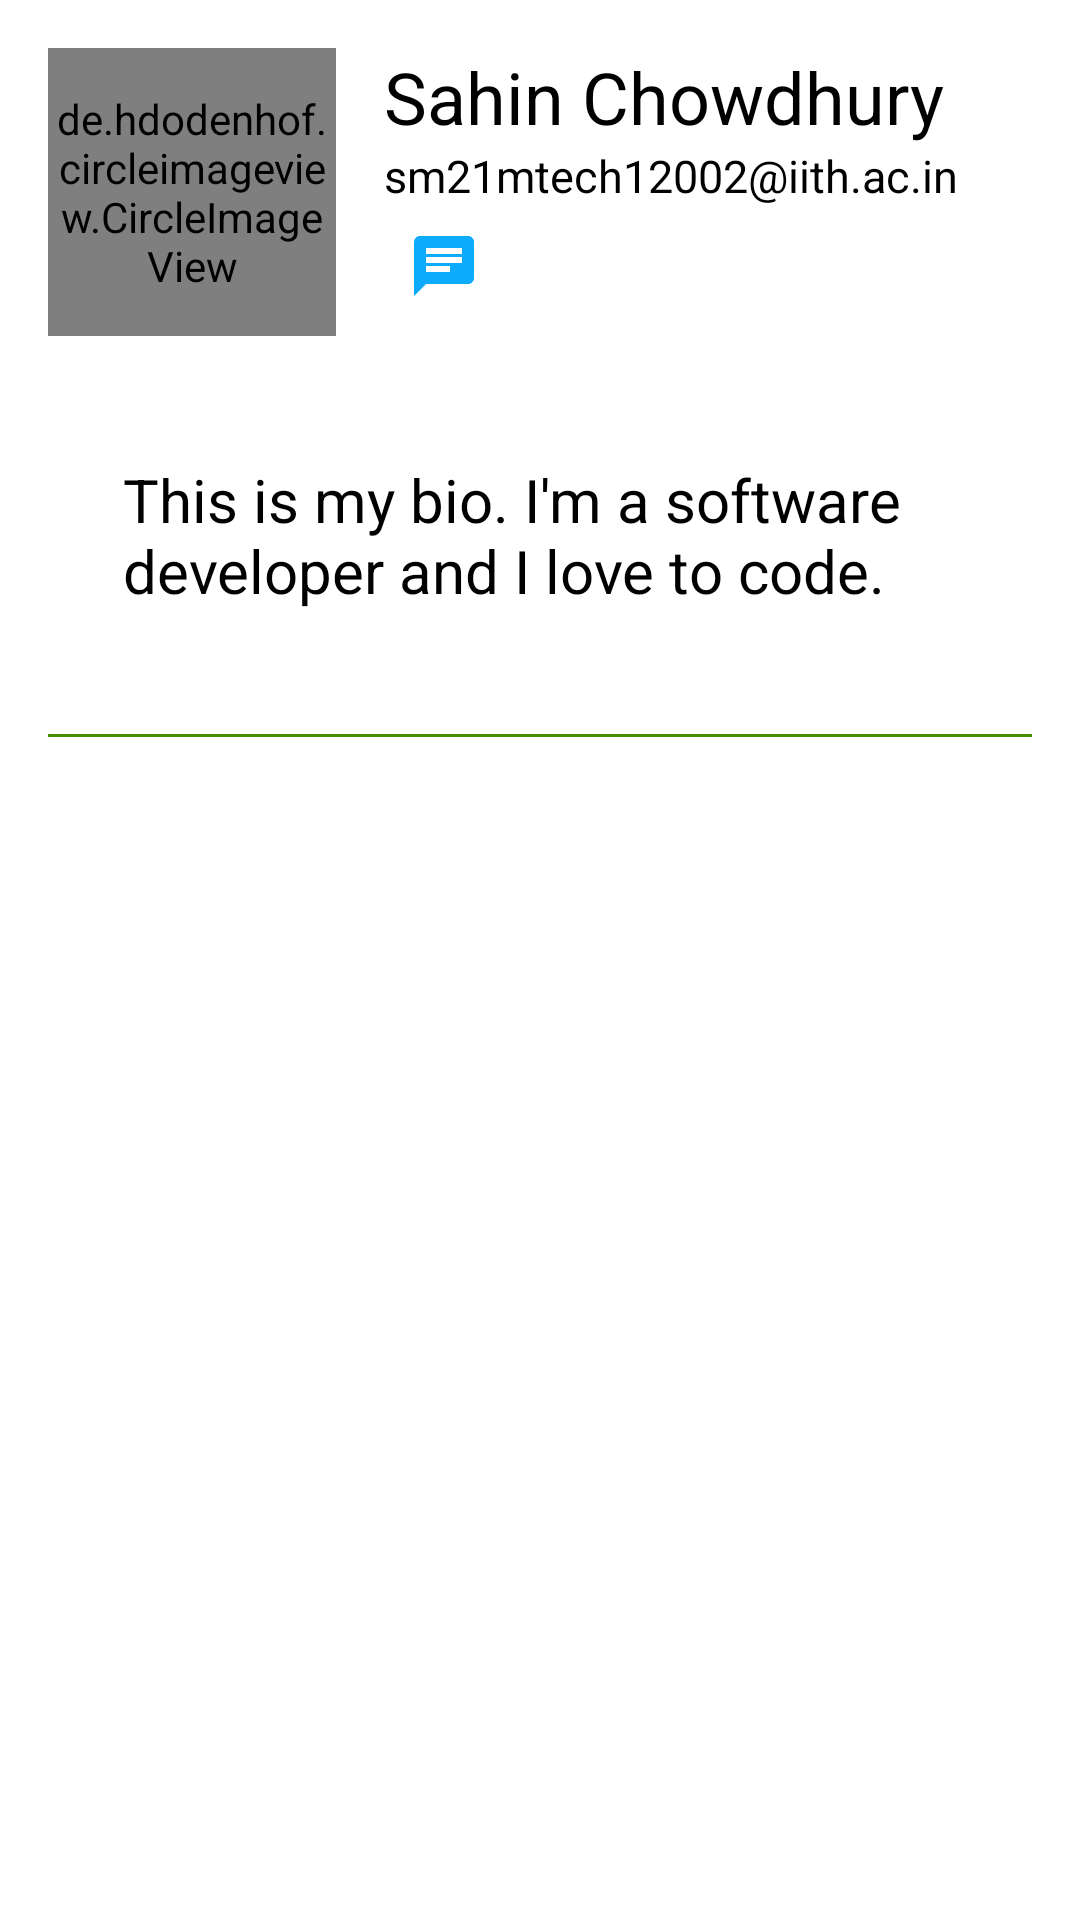

Named icons in this screenshot (1080×1920) and their centers, point (x, y):
chat: point (444, 266)
